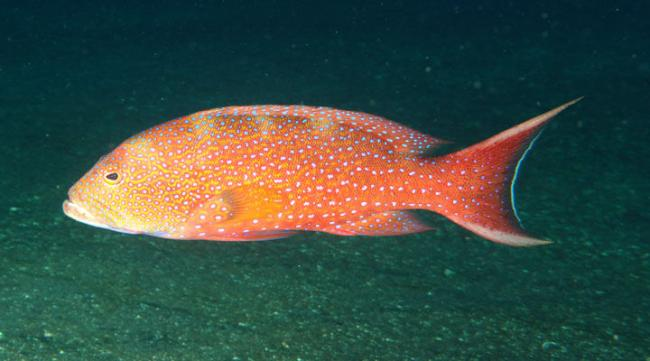fish: (62, 93, 585, 248)
